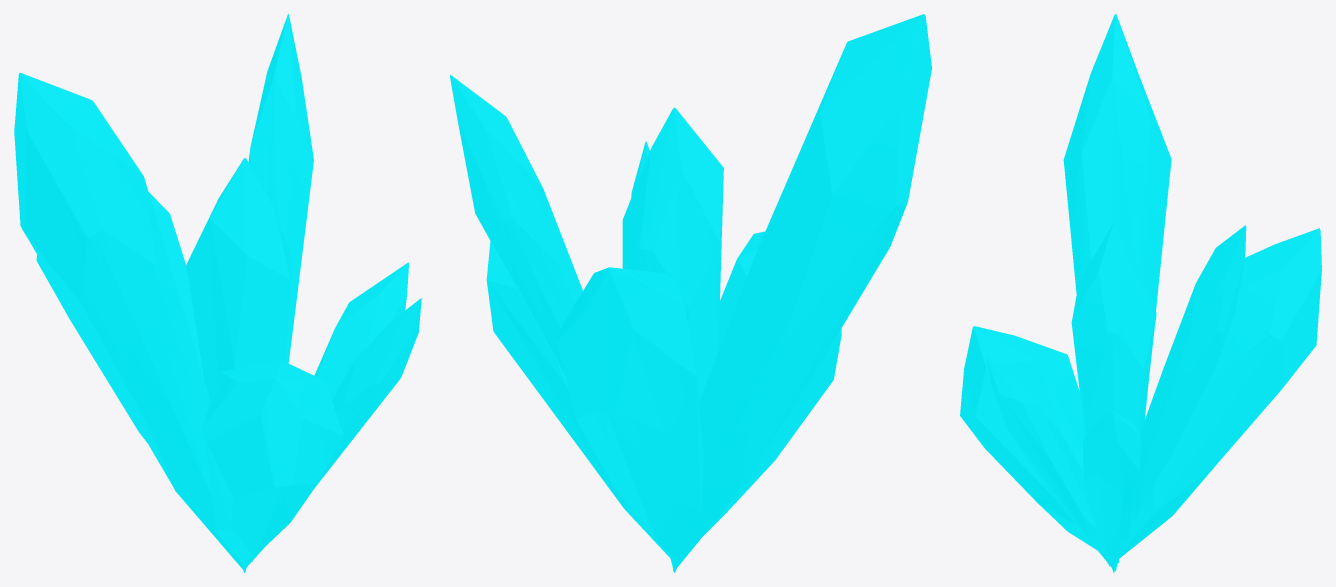
Rendered from IceCrystalFBX.fbx.
3 renders of one model, left to right at view 1: azimuth 30°, elevation 25°; view 2: azimuth 150°, elevation 25°; view 3: azimuth 270°, elevation 25°, orthographic. The views are drawn at different scales.
Visible parts, largest first — view 1: IceCrystal; view 2: IceCrystal; view 3: IceCrystal.
Part boxes in pixels (x1,y1,x2,y2): IceCrystal: (14, 14, 421, 572); IceCrystal: (450, 14, 931, 572); IceCrystal: (960, 14, 1321, 572).
Bounding box in the file's own units: 96.25 × 131 × 92.15.
